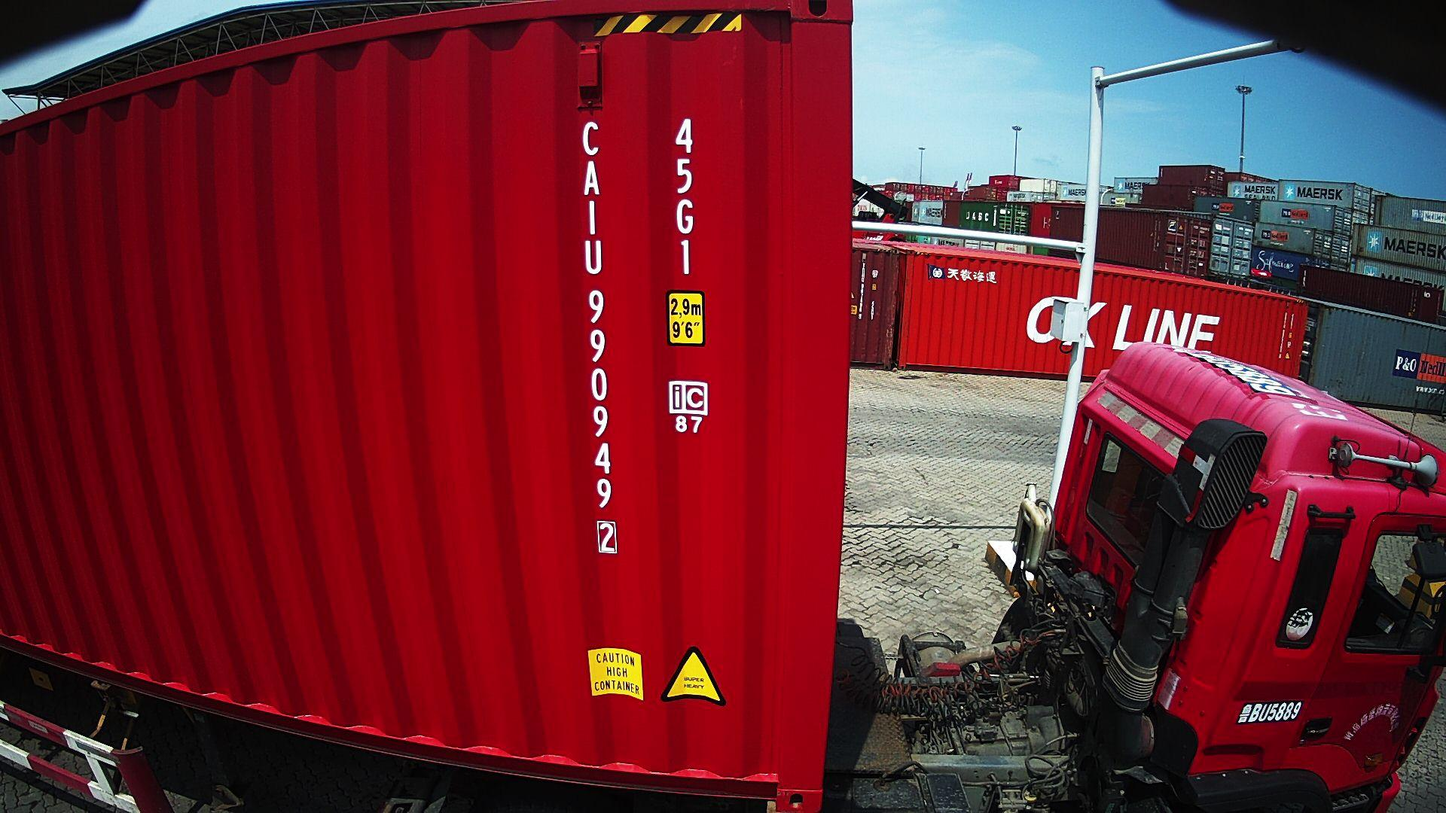container-numbers: (578, 114, 619, 559), (670, 113, 700, 278)
